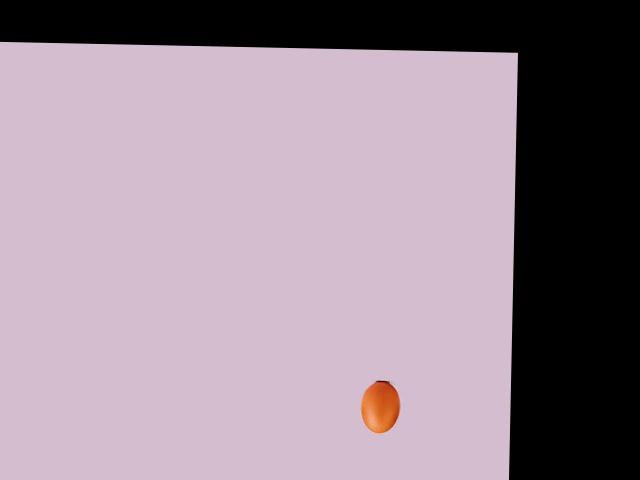egg: (361, 380, 400, 433)
